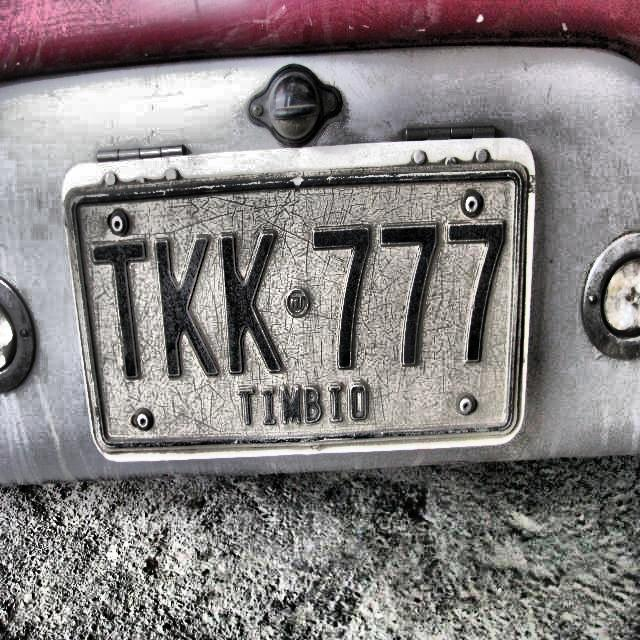plate: (71, 171, 521, 449)
